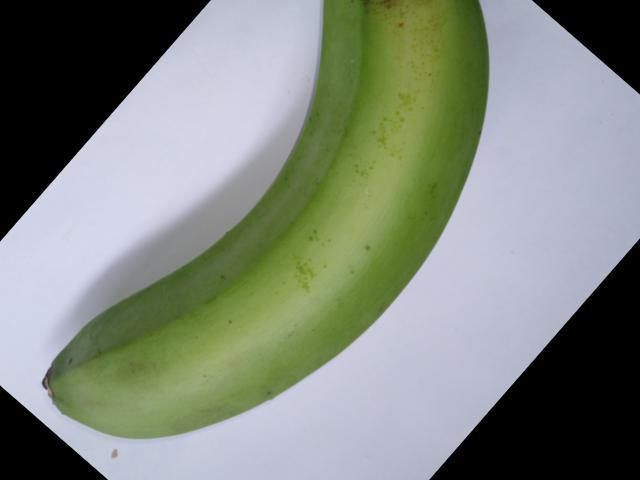freshunripe: (30, 0, 510, 448)
